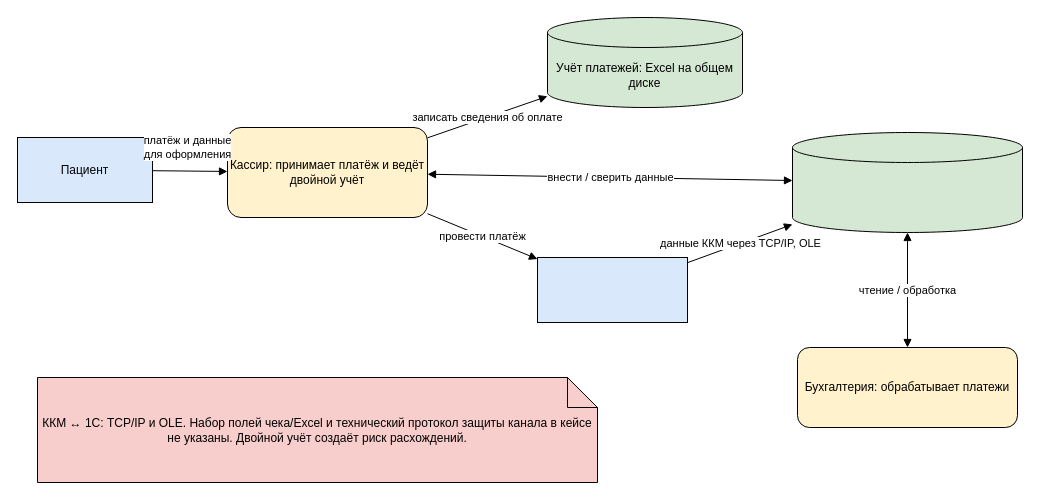
This 1040x500 diagram has some shape labels left out. Here are the shapes that lost their labels. From the top down, the centre of each, then its label:
At (907,182): "1С:Бухгалтерия предприятия; файловый режим на локальном сервере".
At (612,289): "ККМ".
